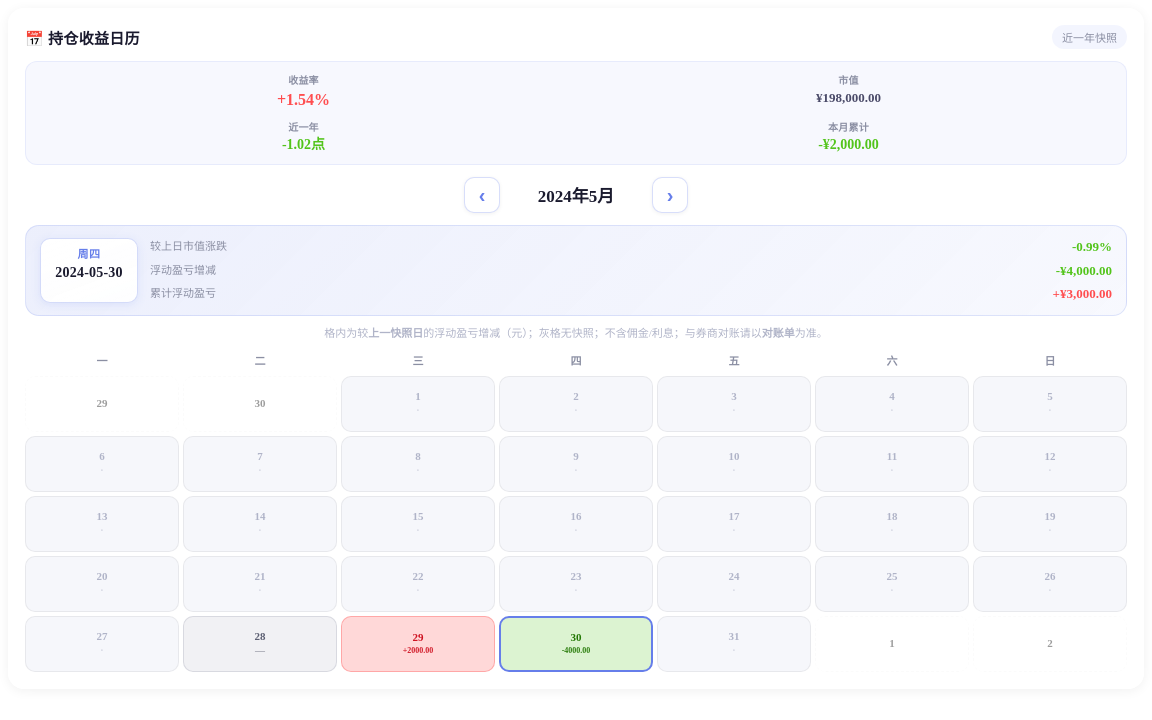
Test: ProfitChart › navigates to previous month
The width and height of the screenshot is (1152, 720).
Check: the text with test id "calendar-title" reads "2024年5月", box [538,188,614,206]
Click the button with test id "calendar-month-prev" at [482, 195], box [464,177,500,213]
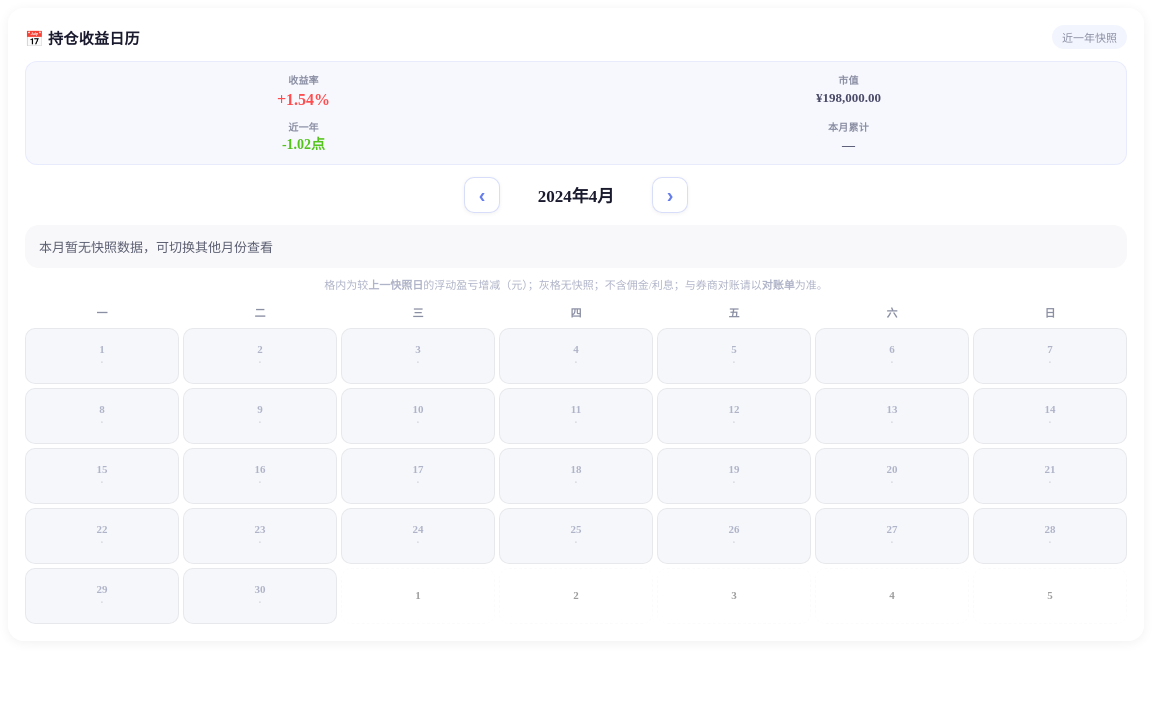
Check: the text with test id "calendar-title" reads "2024年4月", box [538,188,614,206]
